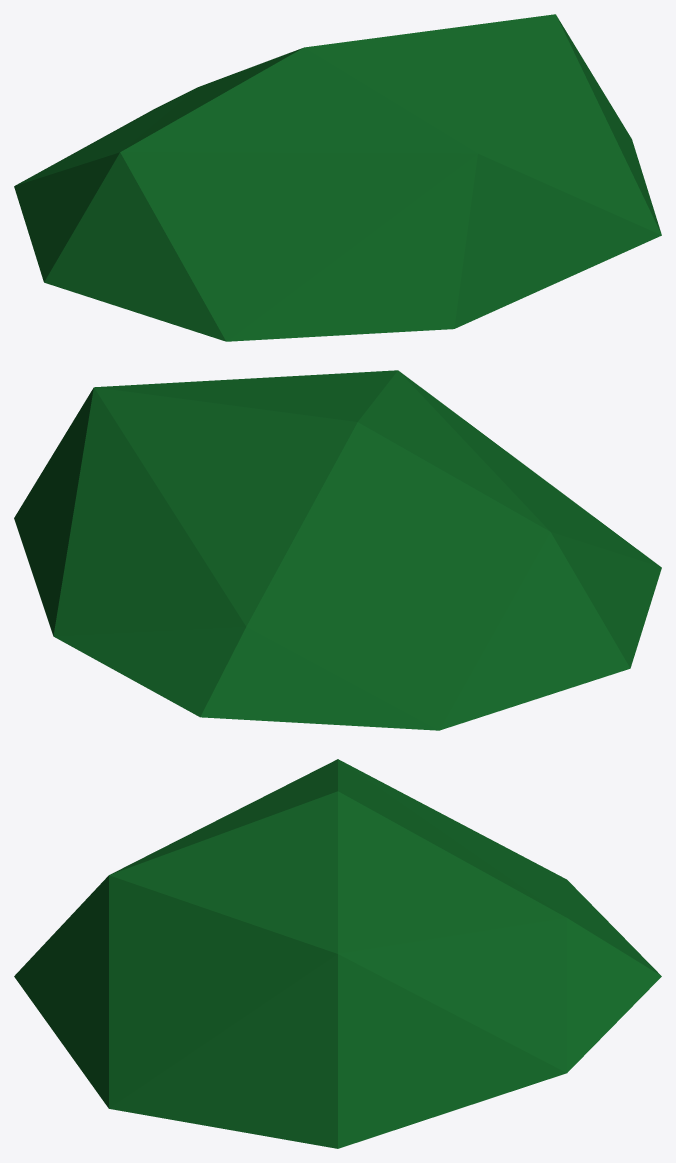
Rendered from Rock 5.fbx.
3 views of the same model, one above another, from view 1: azimuth 30°, elevation 25°; view 2: azimuth 150°, elevation 25°; view 3: azimuth 270°, elevation 25° (orthographic). The views are drawn at different scales.
Parts seen in each view (by area): view 1: Rock 5; view 2: Rock 5; view 3: Rock 5.
Part boxes in pixels (x1,y1,x2,y2): Rock 5: [14, 14, 661, 341]; Rock 5: [14, 370, 661, 730]; Rock 5: [14, 759, 661, 1148].
Size of the model in its own units: 31.96 by 8.92 by 28.28.
1 material, 1 textured.
